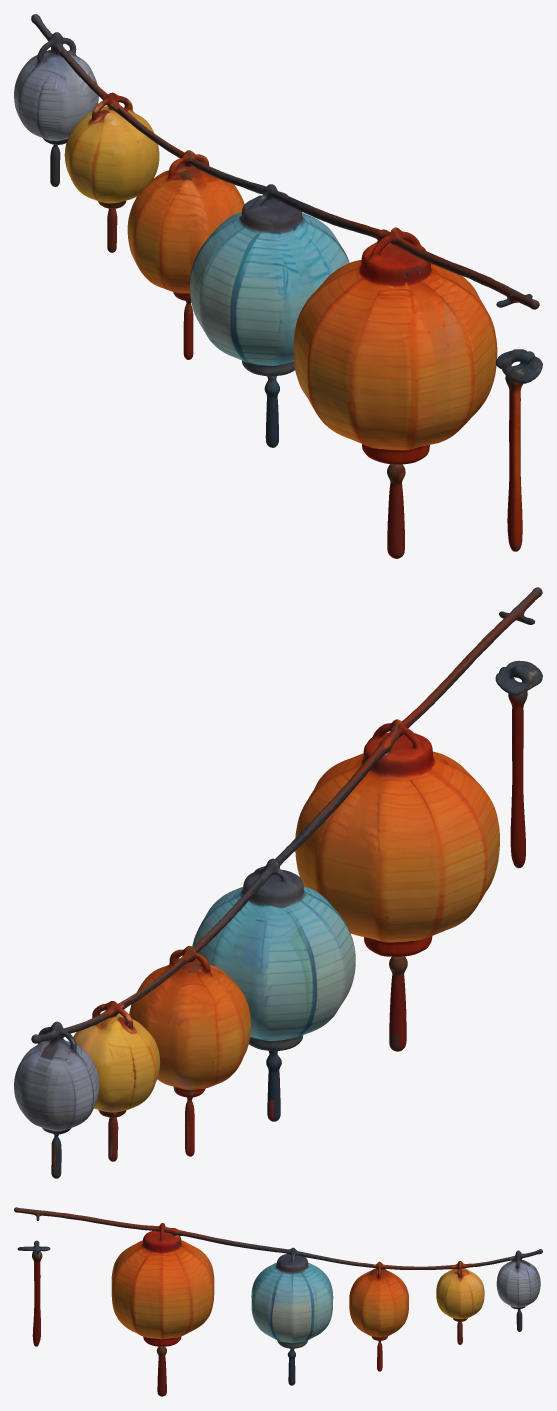
The model's file is lantern_string.glb.
The picture shows the model from 3 angles, top to bottom: view 1: azimuth 30°, elevation 25°; view 2: azimuth 150°, elevation 25°; view 3: azimuth 270°, elevation 25°; orthographic projection. The views are drawn at different scales.
Visible parts, largest first — view 1: tripo_node_dbb9d2d8-e6af-43e3-8967-8593e8294606; view 2: tripo_node_dbb9d2d8-e6af-43e3-8967-8593e8294606; view 3: tripo_node_dbb9d2d8-e6af-43e3-8967-8593e8294606.
Boxes of the visible parts, bbox=[...] form: tripo_node_dbb9d2d8-e6af-43e3-8967-8593e8294606: bbox=[14, 14, 542, 558]; tripo_node_dbb9d2d8-e6af-43e3-8967-8593e8294606: bbox=[14, 587, 542, 1178]; tripo_node_dbb9d2d8-e6af-43e3-8967-8593e8294606: bbox=[14, 1207, 542, 1396].
Size of the model in its own units: 0.1915 by 0.3742 by 0.9518.
Materials: 1 (1 with a texture image).
